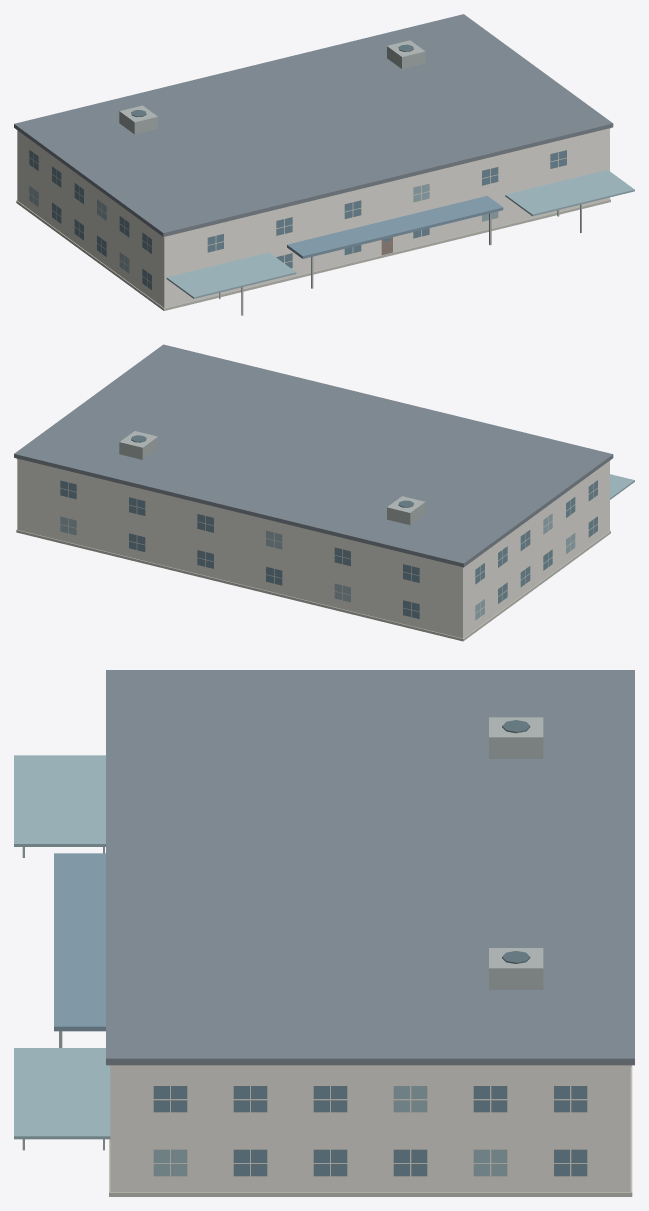
The model's file is civic-transit-hall.glb.
3 renders of one model, top to bottom at view 1: azimuth 30°, elevation 25°; view 2: azimuth 150°, elevation 25°; view 3: azimuth 270°, elevation 25°, orthographic. The views are drawn at different scales.
Parts seen in each view (by area): view 1: civic-transit-hall; view 2: civic-transit-hall; view 3: civic-transit-hall.
Part boxes in pixels (x1,y1,x2,y2): civic-transit-hall: [14, 14, 634, 315]; civic-transit-hall: [14, 344, 634, 641]; civic-transit-hall: [14, 670, 634, 1196].
Size of the model in its own units: 42.4 by 8.27 by 28.65.
